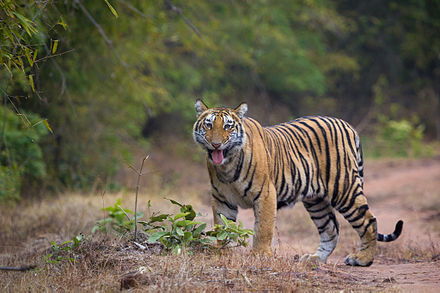Tiger: (186, 79, 408, 278)
